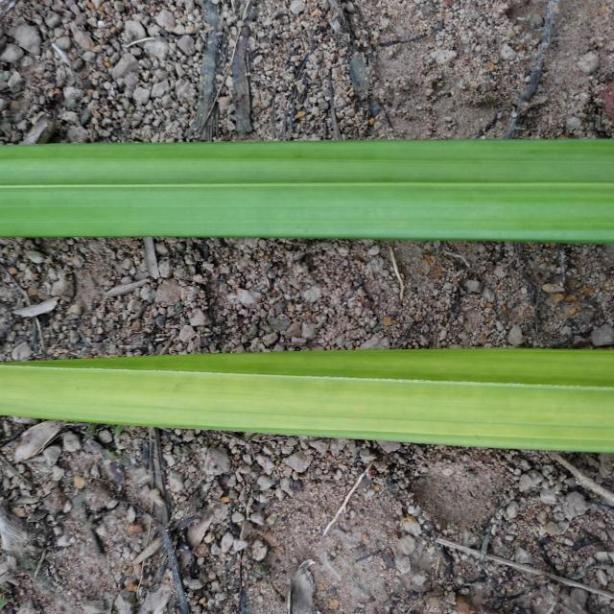nitrogen: (0, 131, 614, 246), (0, 339, 614, 452)
